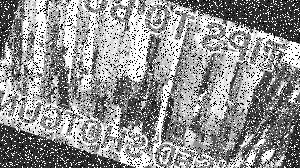shotgun: (41, 0, 112, 110), (132, 20, 190, 140), (106, 14, 162, 128), (22, 0, 84, 99), (81, 5, 132, 120), (163, 36, 216, 146), (190, 49, 239, 154), (211, 63, 261, 163)
